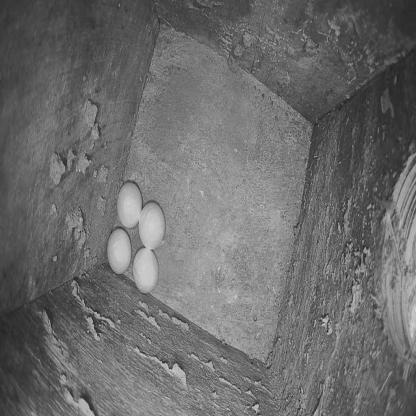Ball: (138, 204, 164, 250), (132, 247, 158, 292), (117, 182, 142, 228), (107, 230, 131, 274)
